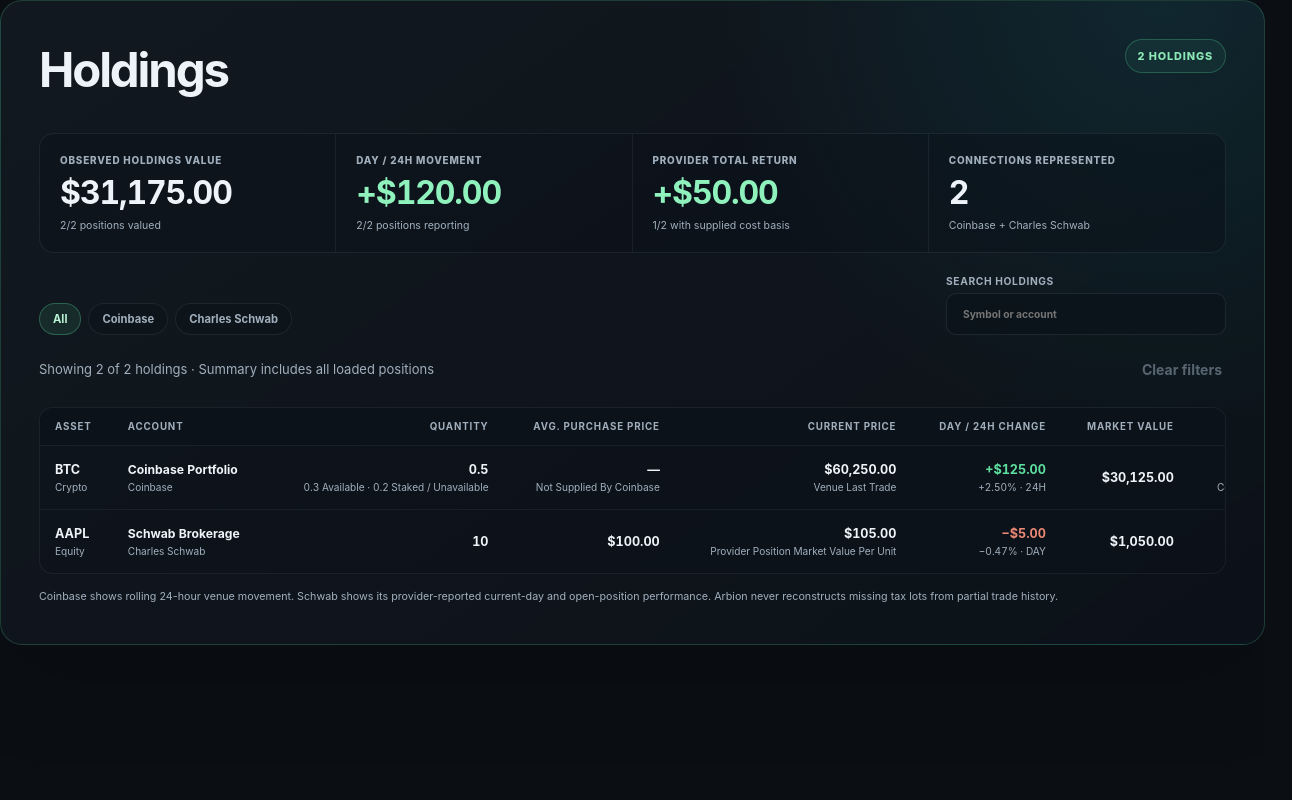
Test: PortfolioHoldingsLedger › announces filtering, keeps the full summary stable and clears only local filters
Expected: the button "Clear filters" is disabled, left=1138, top=347, right=1226, bottom=391
Click the button "Coinbase" at point(128, 319), box left=88, top=303, right=168, bottom=335
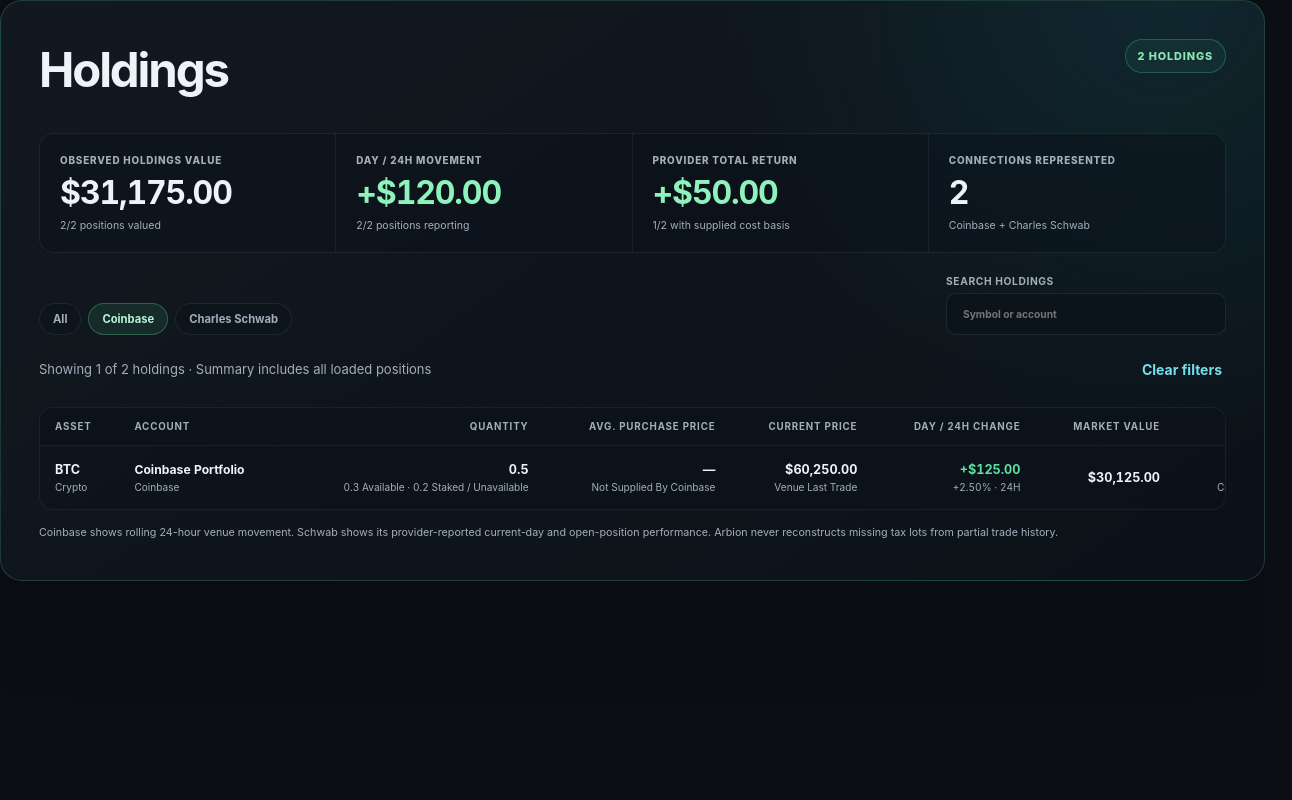
Expected: the message shows "Showing 1 of 2 holdings", left=39, top=360, right=431, bottom=379
Type "missing" into the search field at point(1086, 314), box left=946, top=293, right=1226, bottom=335
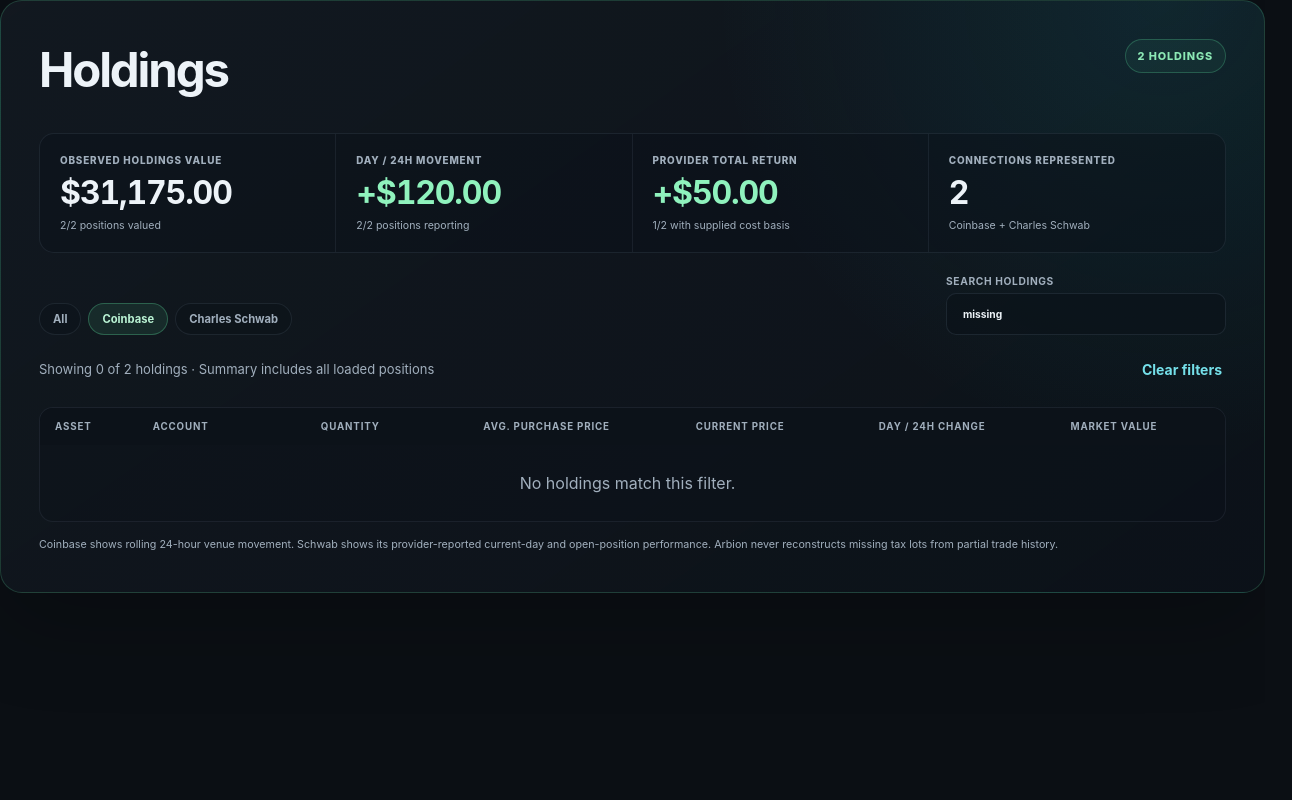
Expected: the message shows "Showing 0 of 2 holdings", left=39, top=360, right=434, bottom=379
Expected: the text "No holdings match this filter." is shown, left=520, top=473, right=735, bottom=493
Click the button "Clear filters" at point(1182, 369), box left=1138, top=347, right=1226, bottom=391
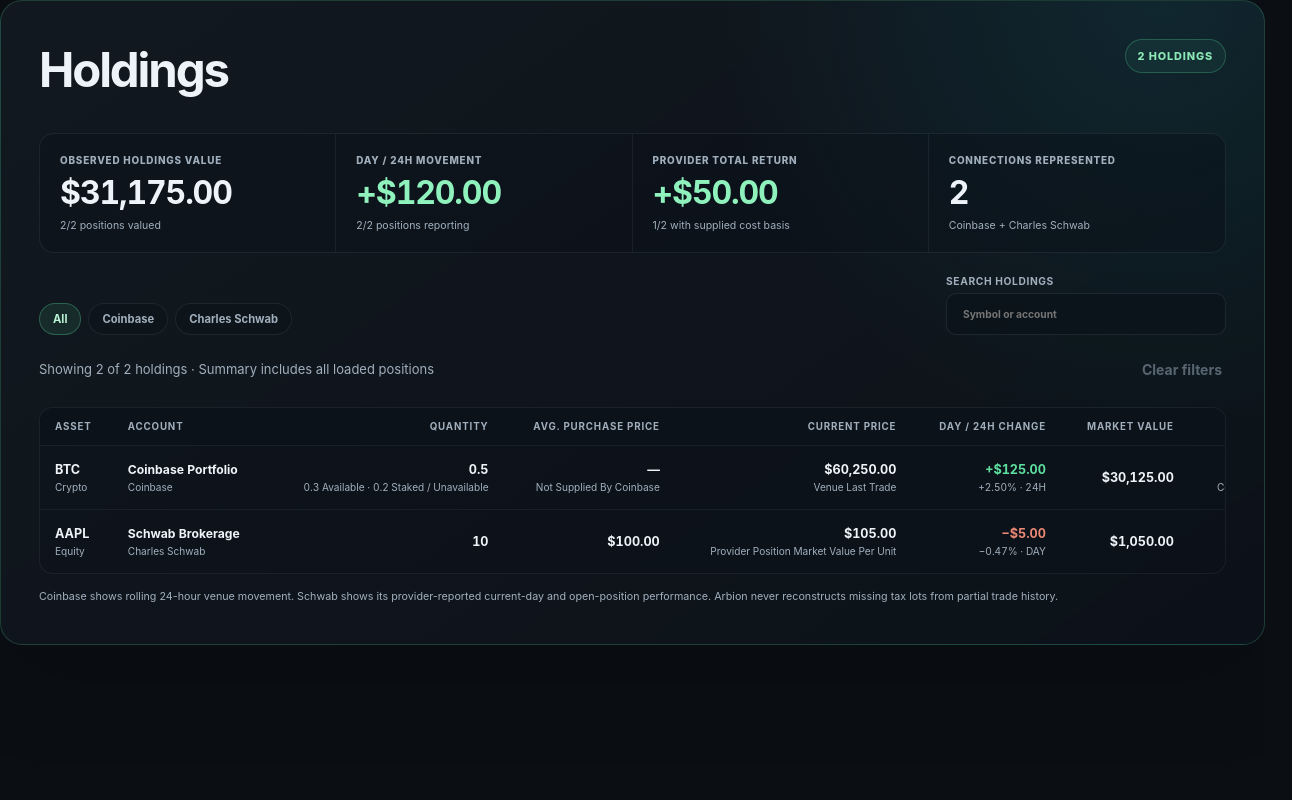
Expected: the search field is empty, left=946, top=293, right=1226, bottom=335
Expected: the message shows "Showing 2 of 2 holdings", left=39, top=360, right=434, bottom=379
Expected: the text "BTC" is shown, left=55, top=462, right=80, bottom=477
